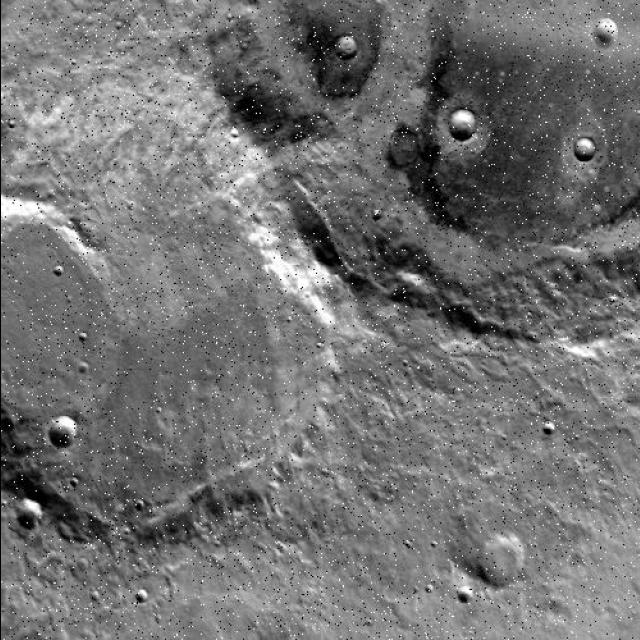crater: (183, 0, 640, 378), (0, 212, 158, 582), (0, 180, 136, 472), (0, 507, 74, 640), (434, 576, 560, 640), (0, 569, 54, 640), (214, 617, 258, 640), (0, 613, 30, 640), (210, 618, 243, 640), (0, 614, 26, 640), (293, 626, 333, 640), (370, 627, 393, 640), (472, 630, 498, 640), (0, 623, 16, 639), (0, 630, 19, 640), (0, 630, 12, 640), (0, 632, 13, 640)
